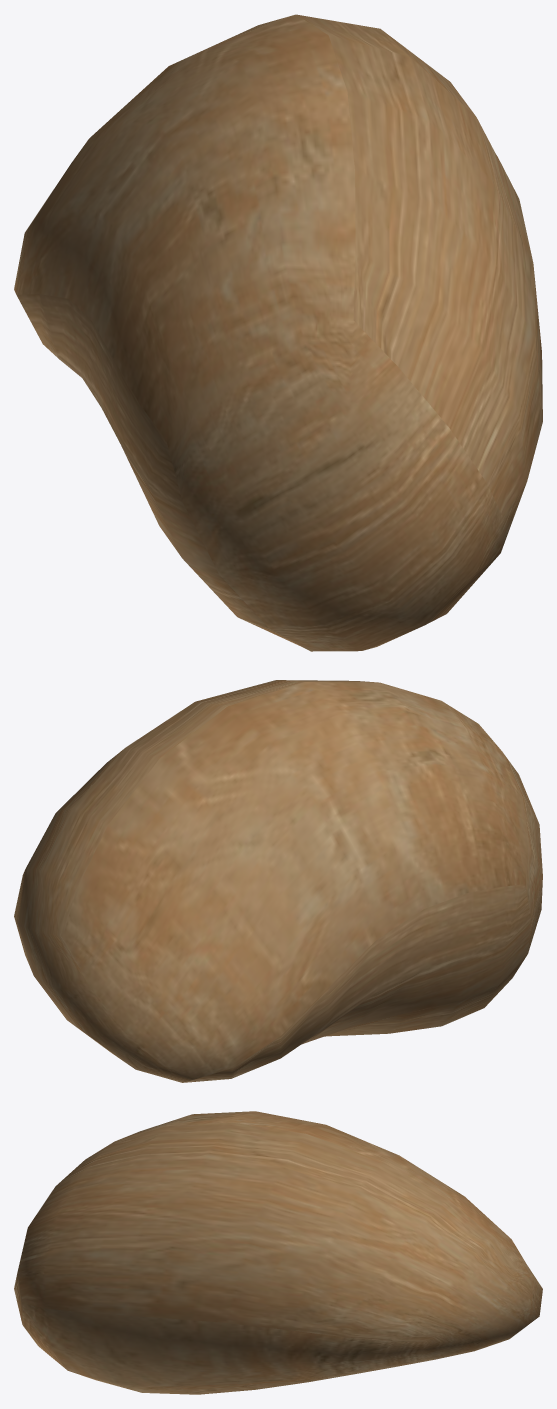
The model's file is rock3.obj.
The picture shows the model from 3 angles, top to bottom: view 1: azimuth 30°, elevation 25°; view 2: azimuth 150°, elevation 25°; view 3: azimuth 270°, elevation 25°; orthographic projection. The views are drawn at different scales.
Parts seen in each view (by area): view 1: rock3; view 2: rock3; view 3: rock3.
Boxes of the visible parts, x1,y1,x2,y2 form: rock3: (14,14,542,651); rock3: (14,680,542,1082); rock3: (14,1111,542,1394).
Bounding box in the file's own units: 4.36 × 4.15 × 6.86.
Materials: 1 (1 with a texture image).
